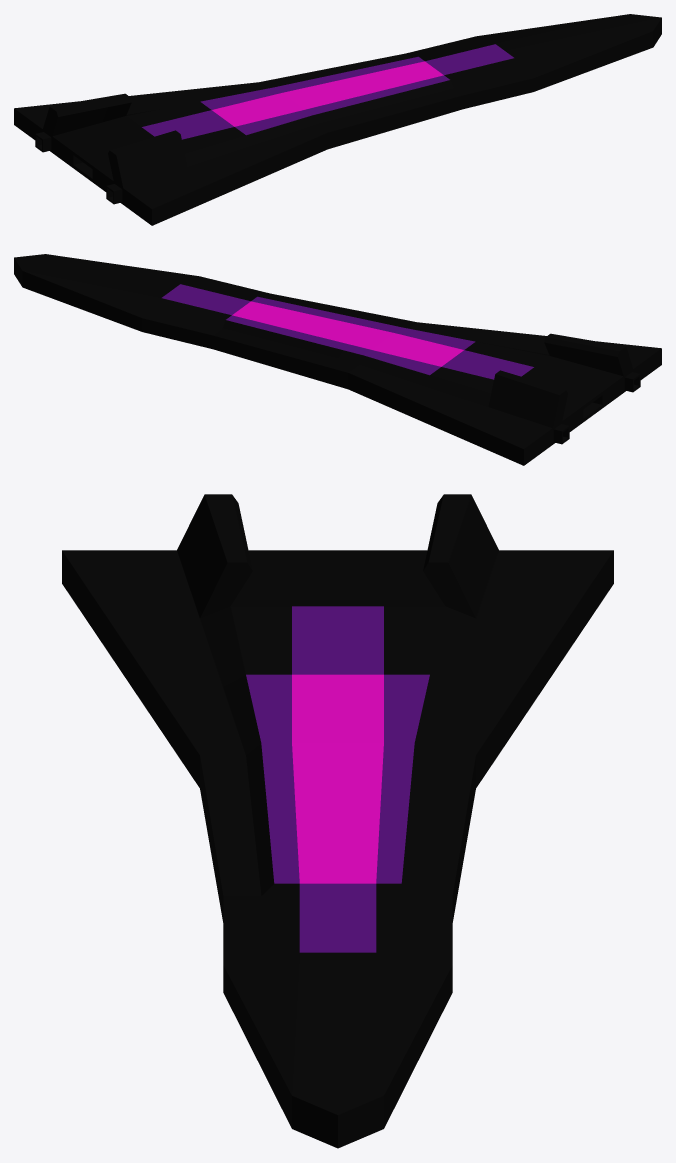
The model's file is HoverboardLocked.fbx.
3 views of the same model, one above another, from view 1: azimuth 30°, elevation 25°; view 2: azimuth 150°, elevation 25°; view 3: azimuth 270°, elevation 25° (orthographic). The views are drawn at different scales.
Visible parts, largest first — view 1: Hoverboard 4; view 2: Hoverboard 4; view 3: Hoverboard 4.
Part boxes in pixels (x1,y1,x2,y2): Hoverboard 4: [14, 14, 661, 225]; Hoverboard 4: [14, 254, 661, 465]; Hoverboard 4: [62, 494, 613, 1148].
Bounding box in the file's own units: 983 × 106 × 400.
